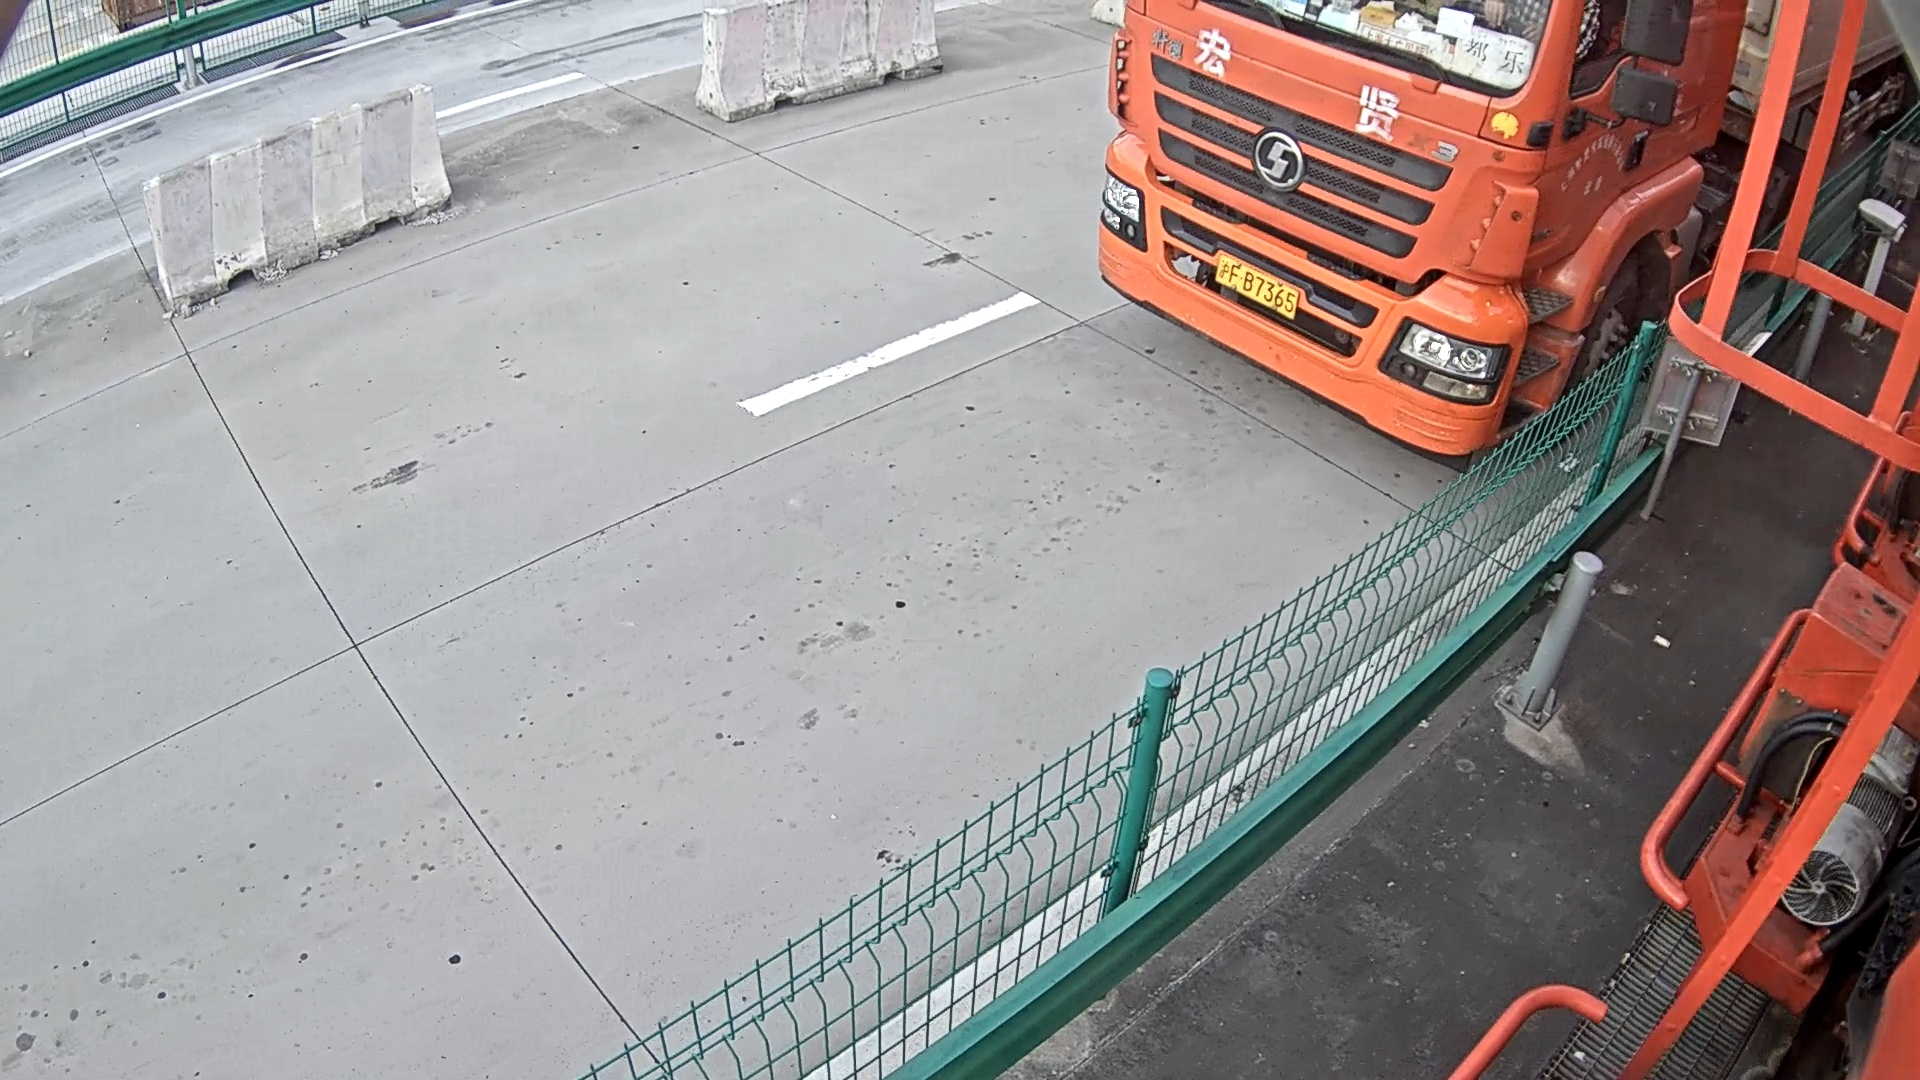head: (1107, 1, 1735, 452)
plate: (1220, 254, 1297, 319)
